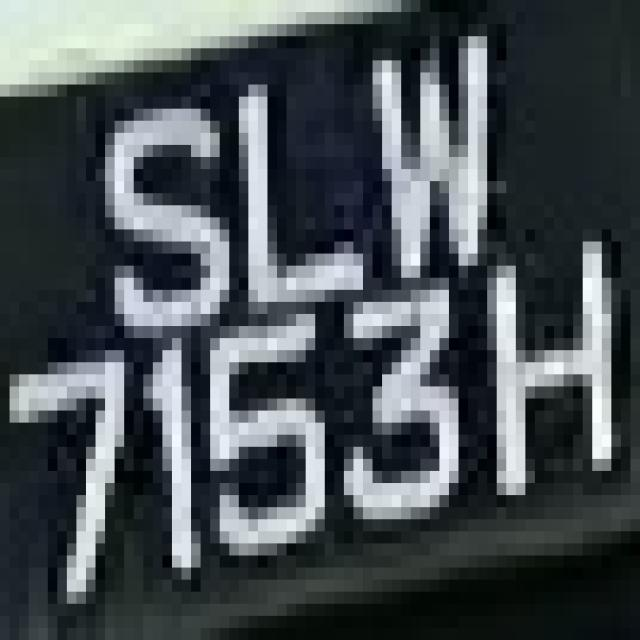1: (124, 278, 220, 592)
3: (334, 254, 468, 531)
5: (182, 253, 334, 580)
7: (19, 314, 143, 616)
H: (439, 217, 640, 544)
L: (210, 24, 373, 302)
S: (76, 73, 258, 350)
W: (334, 0, 535, 290)
